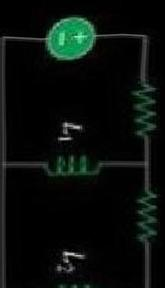Battery: (39, 8, 102, 69)
